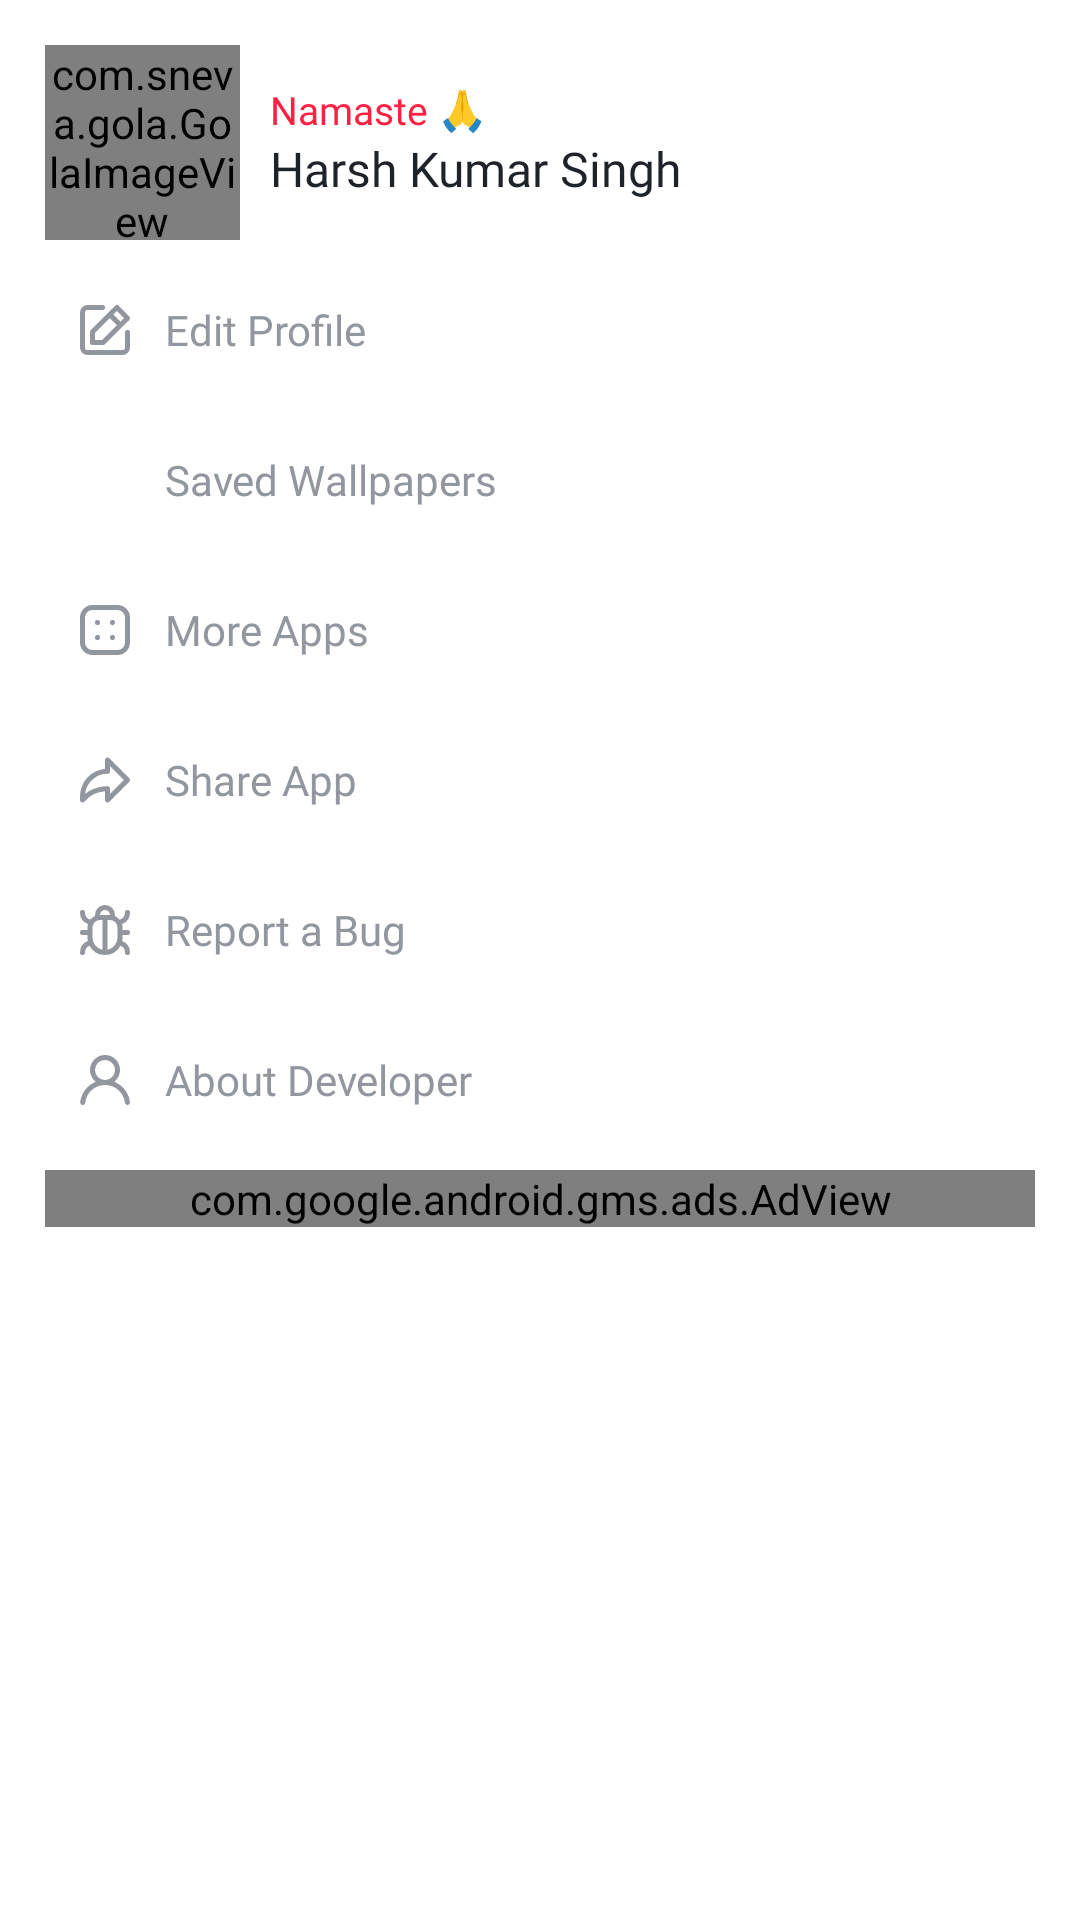

Icon click points for this 1080px×1920px phone screenshot, format point (x, y):
user: point (105, 1080)
